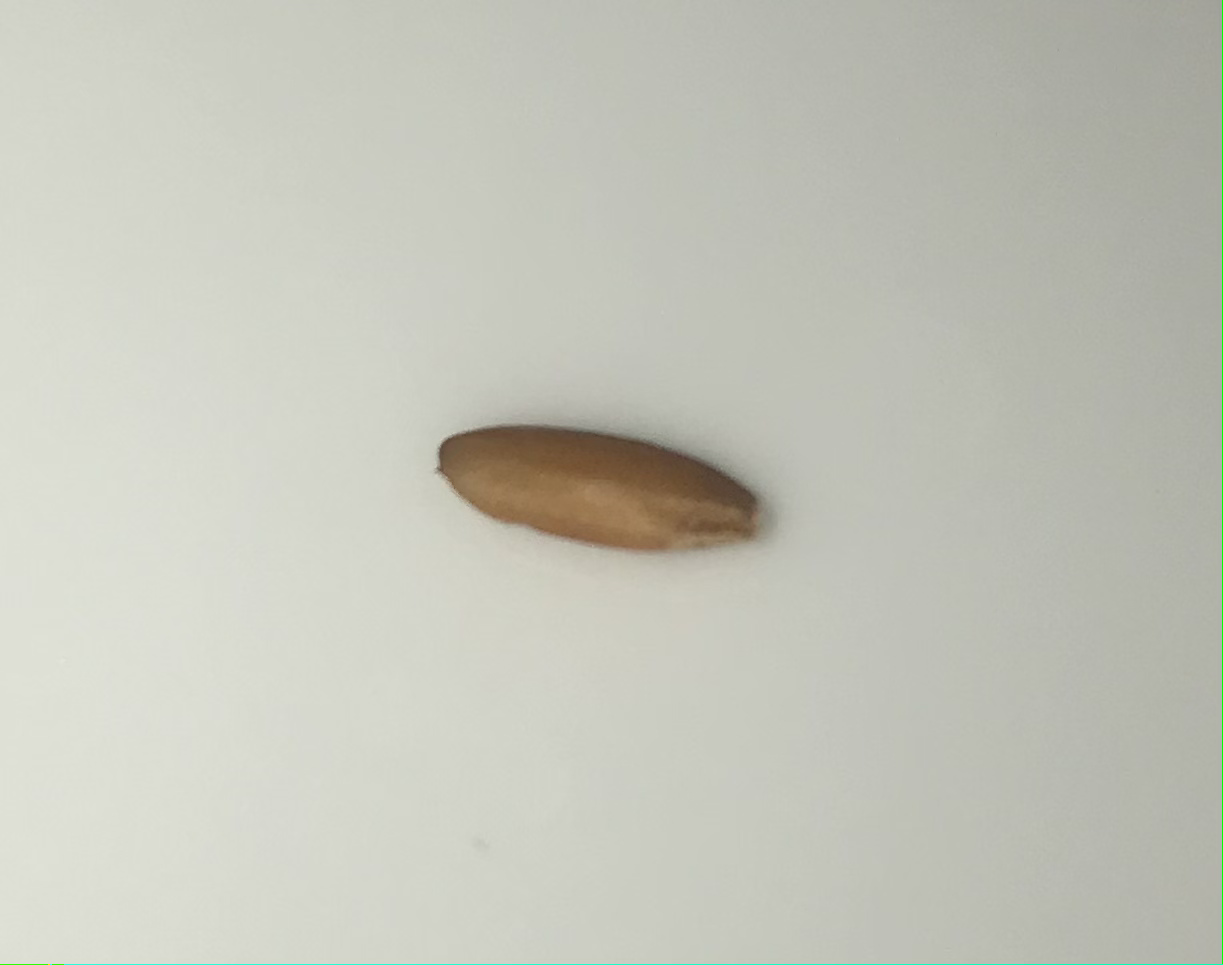Gao Lut Dien Bien: (428, 418, 767, 566)
